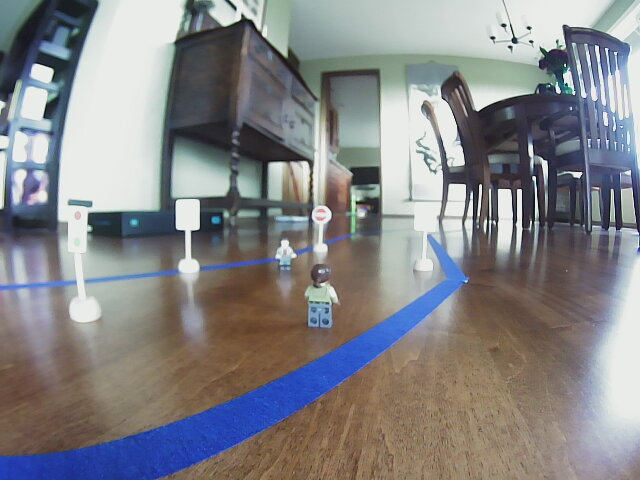SpeedLimit25: (175, 199, 198, 232), (413, 202, 437, 232)
StopSign: (312, 203, 332, 225)
TrafficLight: (64, 197, 91, 258)
person: (302, 263, 339, 330), (268, 235, 299, 275)
